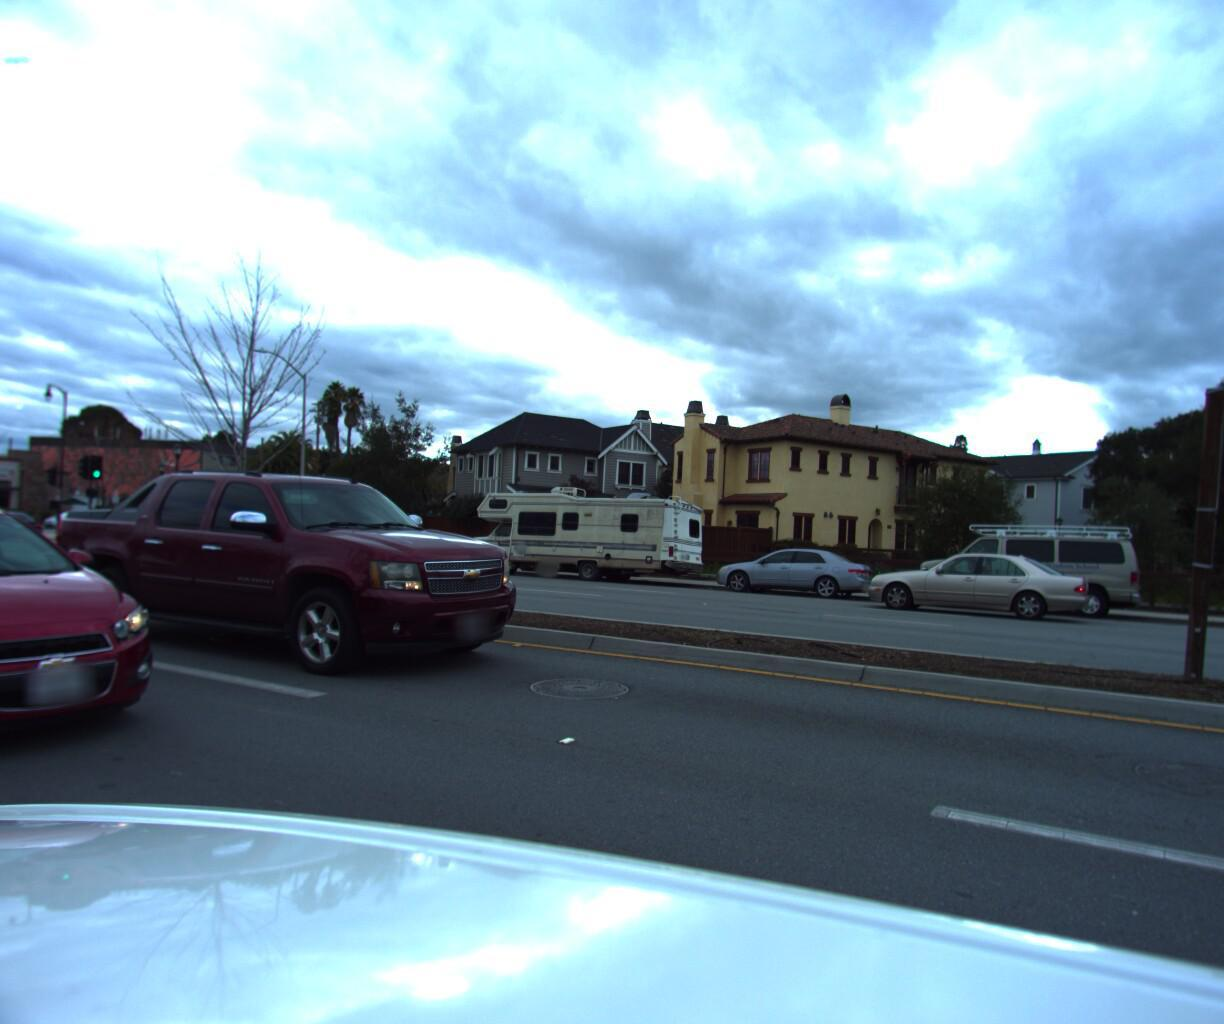car: (27, 461, 551, 701), (0, 483, 203, 818), (900, 522, 1143, 631), (856, 545, 1097, 633), (696, 545, 879, 609), (0, 501, 7, 547)
other_vehicle: (449, 484, 712, 595)
